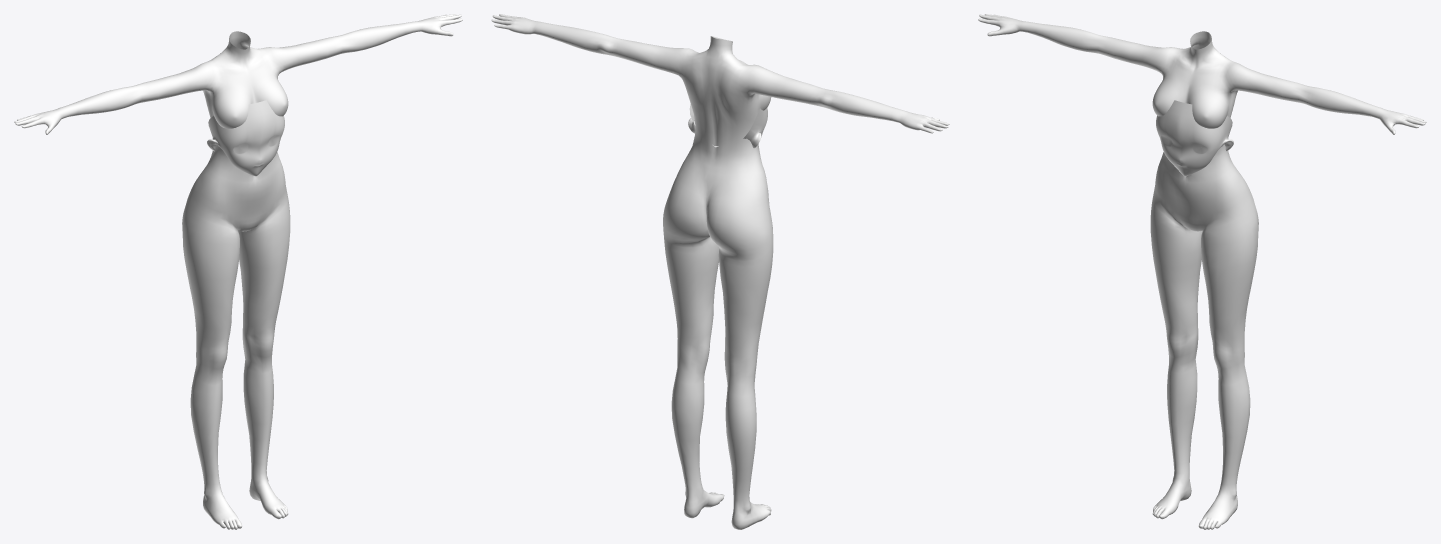
File: kk_character.glb
3 renders of one model, left to right at view 1: azimuth 30°, elevation 25°; view 2: azimuth 150°, elevation 25°; view 3: azimuth 330°, elevation 25°, orthographic. The views are drawn at different scales.
Parts seen in each view (by area): view 1: cf_body, cf_face; view 2: cf_body, cf_face; view 3: cf_body, cf_face.
Part boxes in pixels (bbox=[...]): cf_body: bbox=[14, 14, 462, 529]; cf_face: bbox=[207, 100, 284, 176]; cf_body: bbox=[491, 14, 949, 529]; cf_face: bbox=[688, 104, 767, 148]; cf_body: bbox=[978, 14, 1426, 529]; cf_face: bbox=[1156, 100, 1233, 176].
Size of the model in its own units: 1.49 by 1.51 by 0.2472.
2 materials, 2 textured.
